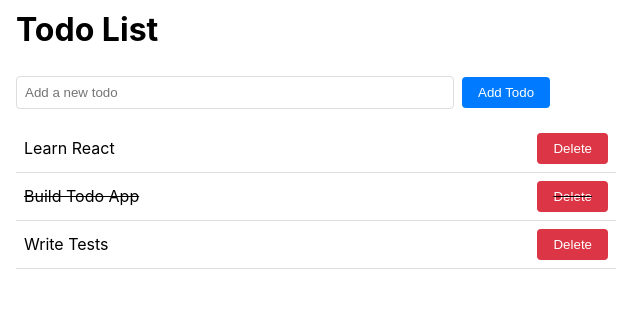
Scenario: TodoList Component › adds a new todo when valid input is submitted
Type "New Todo" into the field with test id "todo-input" at (235,92), box [16, 76, 454, 109]
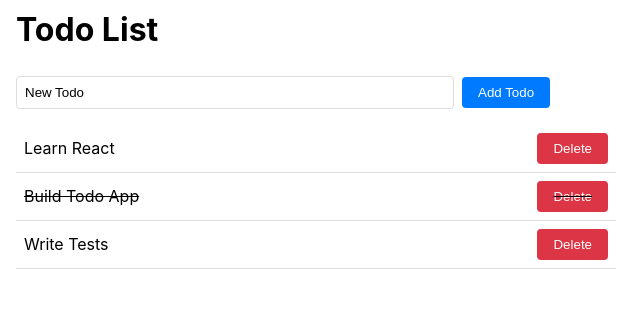
Click the button with test id "add-button" at (506,92), box [462, 77, 550, 108]
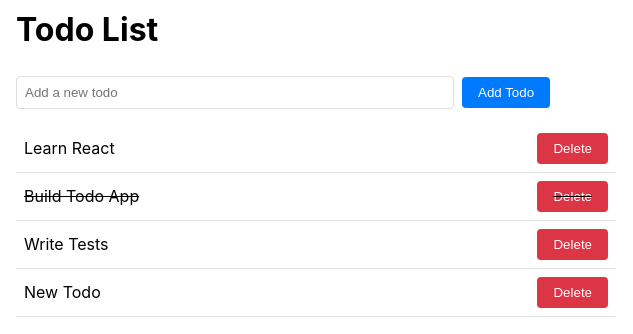
expect the text "New Todo" is shown: met, box [24, 282, 101, 302]
expect the field with test id "todo-input" is empty: met, box [16, 76, 454, 109]
